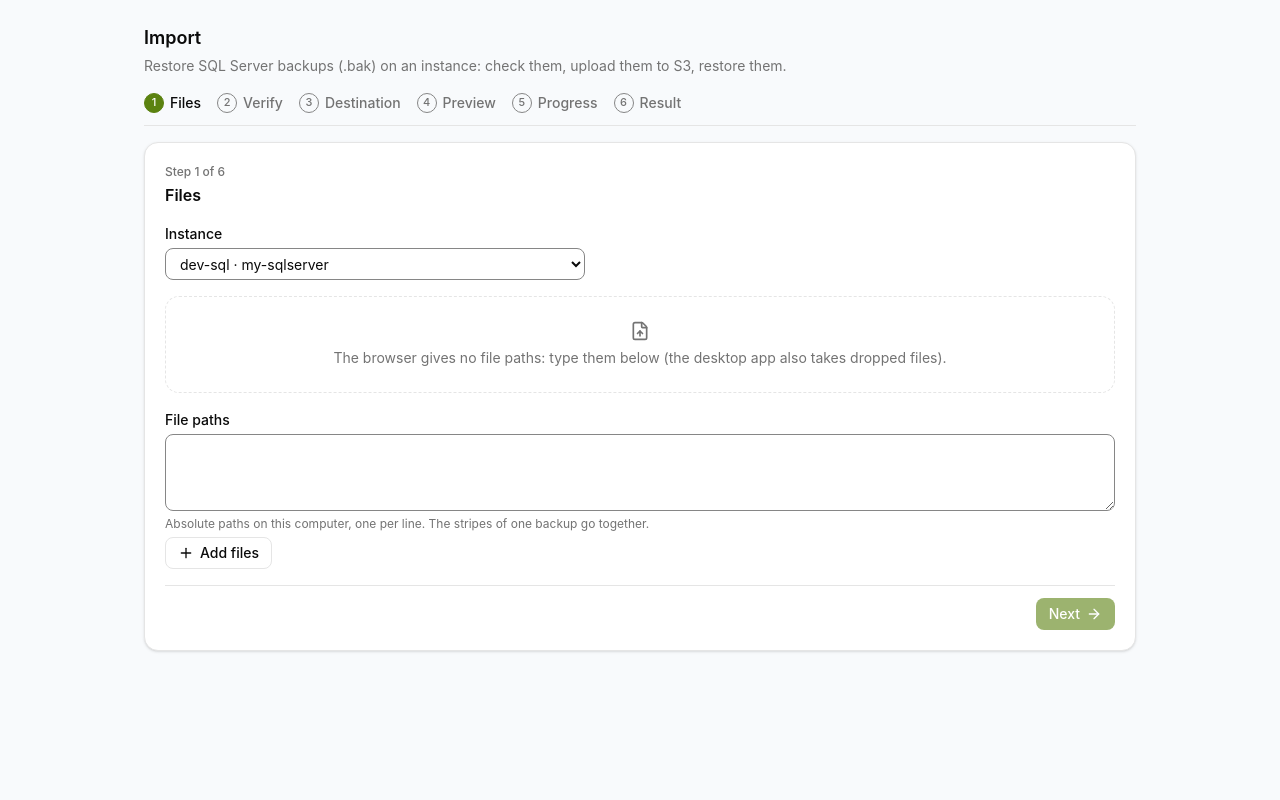
ImportPage › stops at a backup that cannot be restored and says what to do
The width and height of the screenshot is (1280, 800).
Type "/data/backups/app_db.bak" into the text box labelled "File paths" at (640, 472), box [165,434,1115,510]
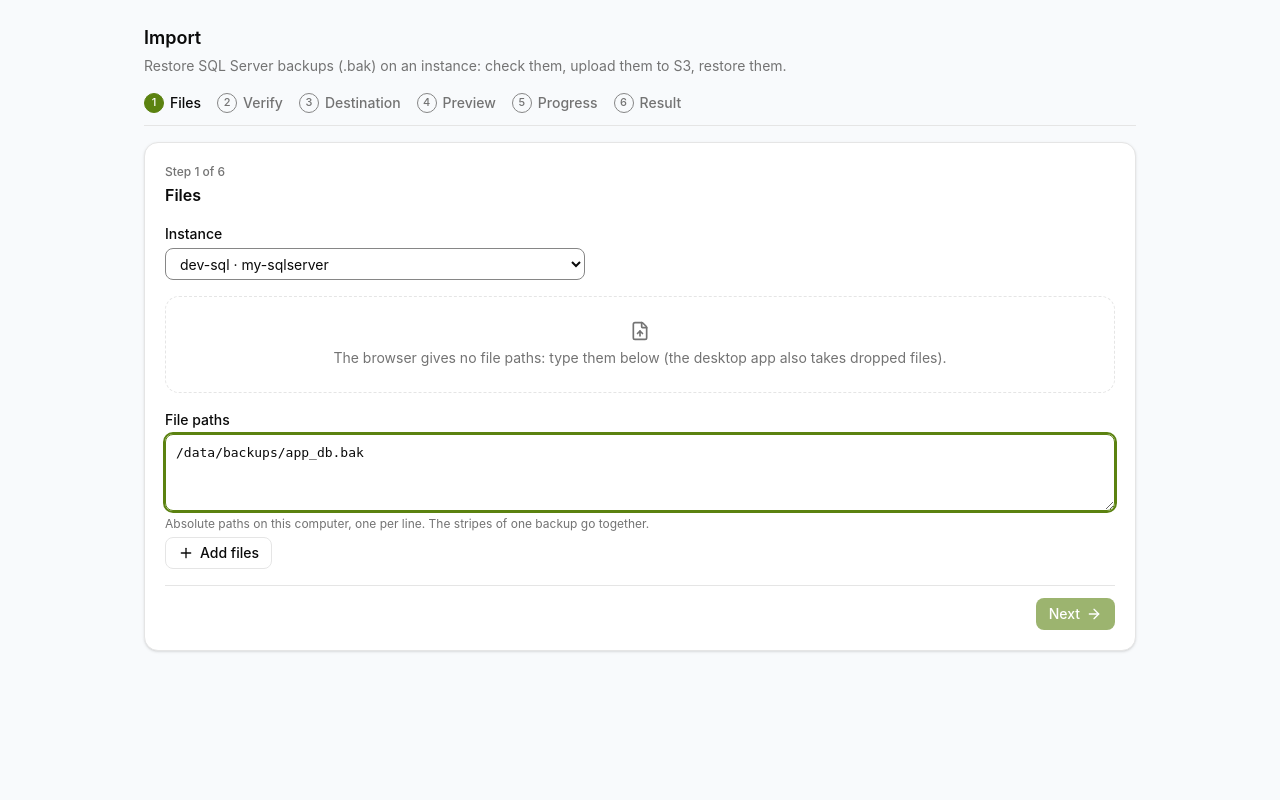
Click the button "Add files" at (218, 552), box [165,536,272,568]
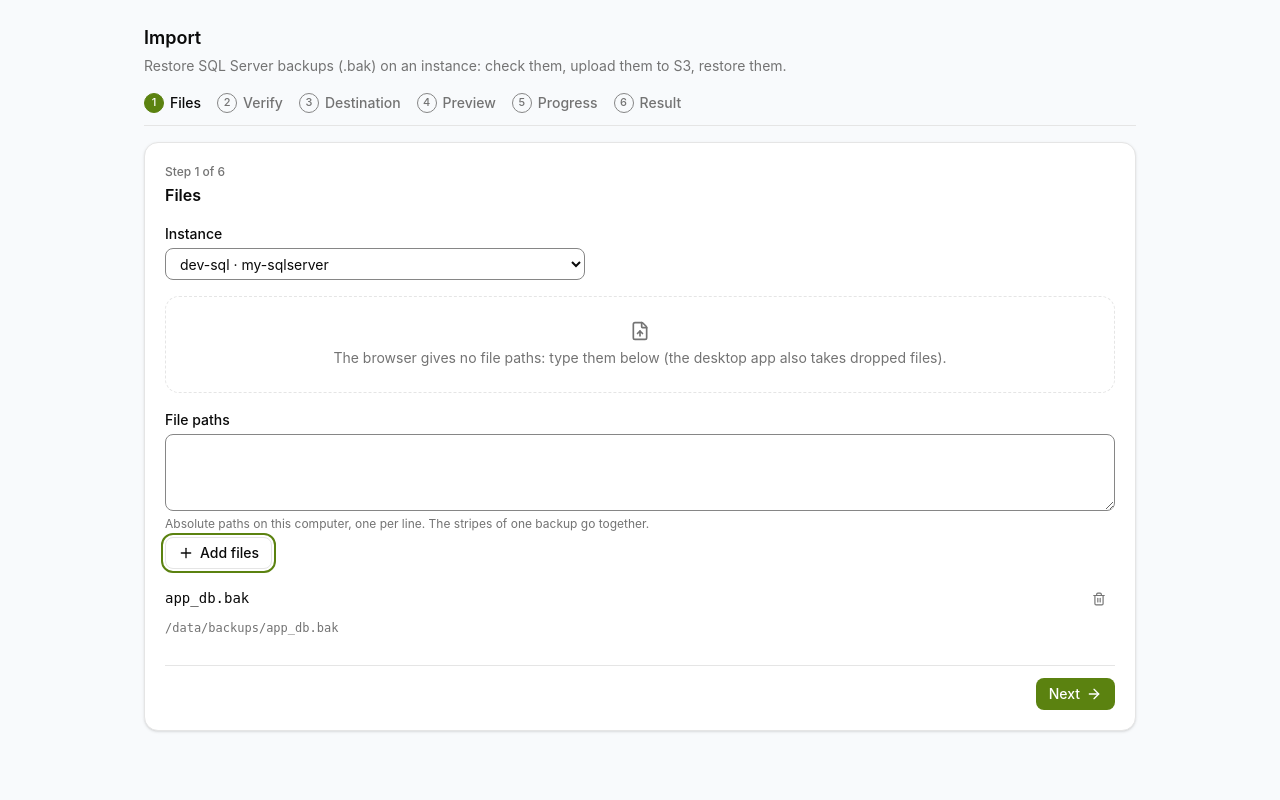
Click the button "Next" at (1075, 694), box [1036,678,1115,710]
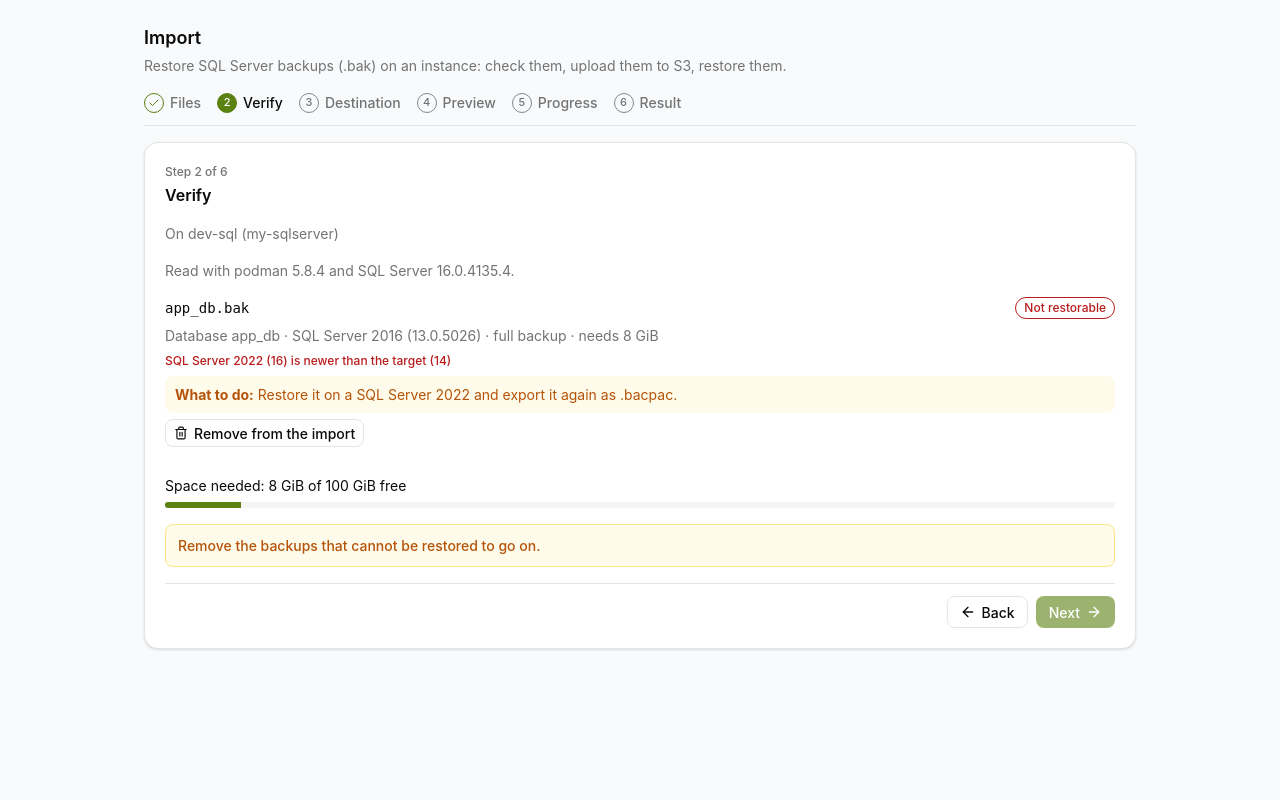
Result: the text "Not restorable" is shown at [1015,297,1115,319]
Result: the text "Restore it on a SQL Server 2022 and export it again as .bacpac." is shown at [258,386,677,403]
Result: the text "Remove the backups that cannot be restored to go on." is shown at [178,537,540,554]
Click the button "Remove from the import" at (265, 433), box [165,419,364,447]
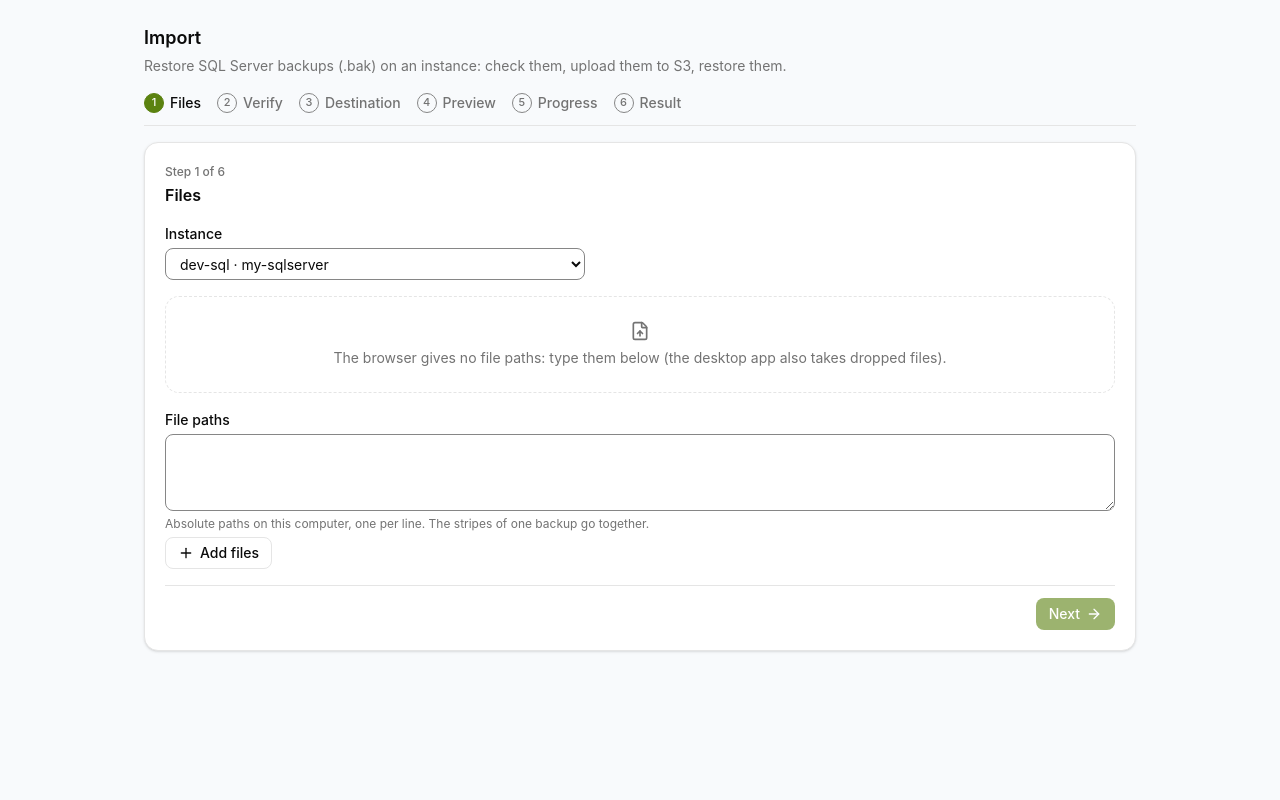
Result: the text "app_db.bak" is gone
